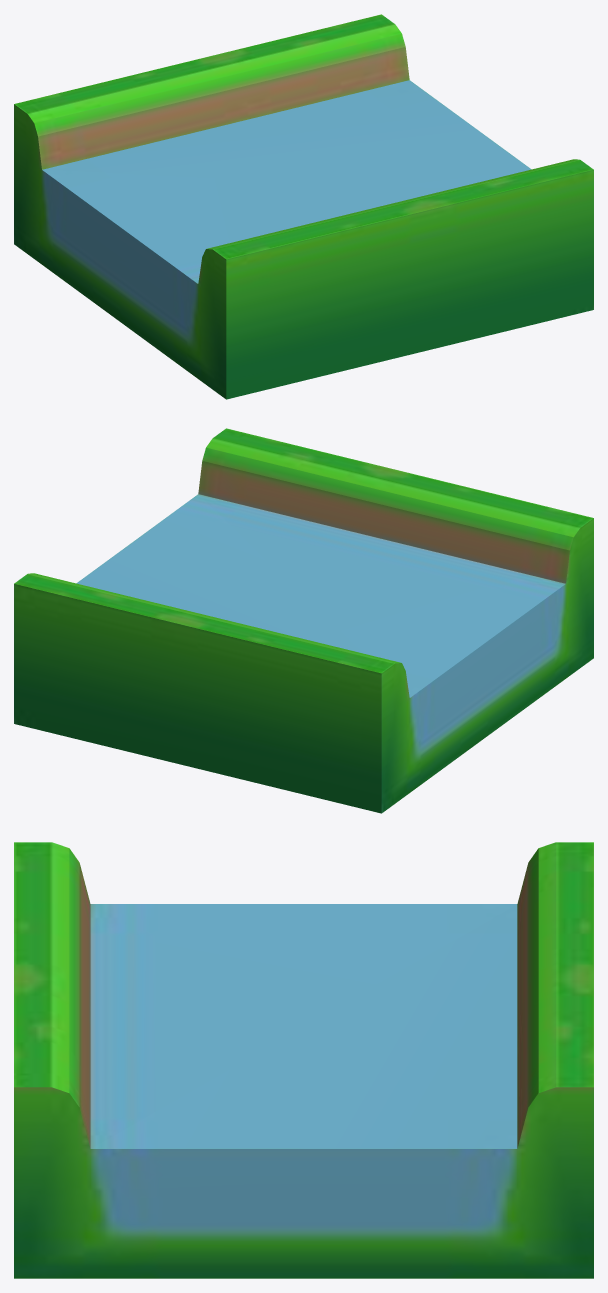
File: creek_straight.glb
3 renders of one model, top to bottom at view 1: azimuth 30°, elevation 25°; view 2: azimuth 150°, elevation 25°; view 3: azimuth 270°, elevation 25°, orthographic. The views are drawn at different scales.
Visible parts, largest first — view 1: creek_straight; view 2: creek_straight; view 3: creek_straight.
Part boxes in pixels (box(x1,y1,x2,y2)): creek_straight: box(14, 14, 593, 399); creek_straight: box(14, 428, 593, 813); creek_straight: box(14, 842, 593, 1278).
Bounding box in the file's own units: 2 × 0.7285 × 2.
Materials: 1 (1 with a texture image).
